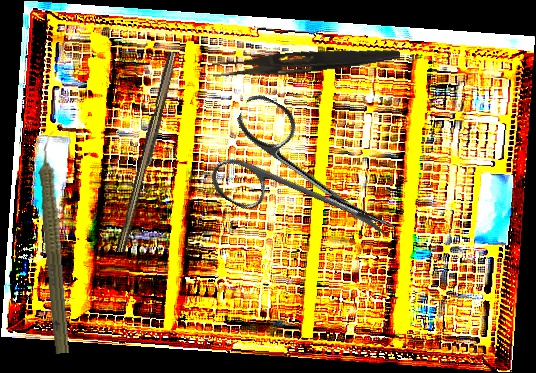Dressing Forceps: (211, 39, 401, 85)
Handpiece: (31, 130, 79, 355)
Iris Scissors: (200, 89, 420, 278)
Scalpel Handle: (115, 50, 181, 255)
